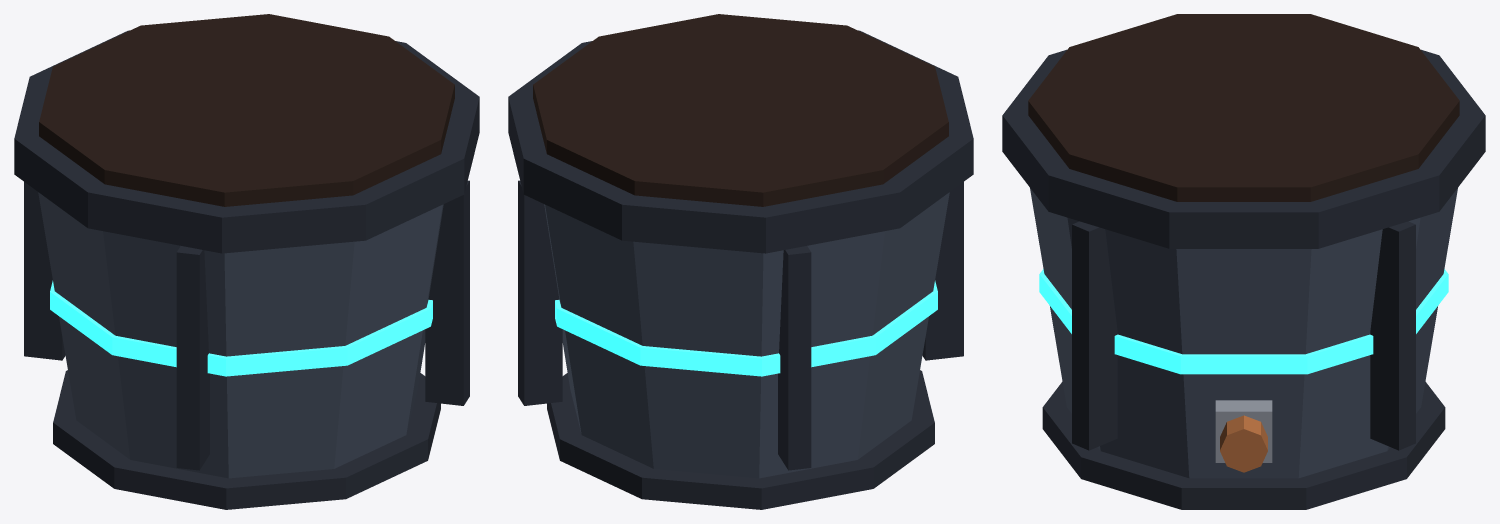
The model's file is plant_pot.glb.
The picture shows the model from 3 angles, left to right: view 1: azimuth 30°, elevation 25°; view 2: azimuth 150°, elevation 25°; view 3: azimuth 270°, elevation 25°; orthographic projection.
Parts seen in each view (by area): view 1: plant_pot; view 2: plant_pot; view 3: plant_pot.
Boxes of the visible parts, x1,y1,x2,y2 form: plant_pot: [14, 14, 479, 509]; plant_pot: [508, 14, 973, 509]; plant_pot: [1002, 14, 1485, 509].
Size of the model in its own units: 0.5853 by 0.45 by 0.6.
